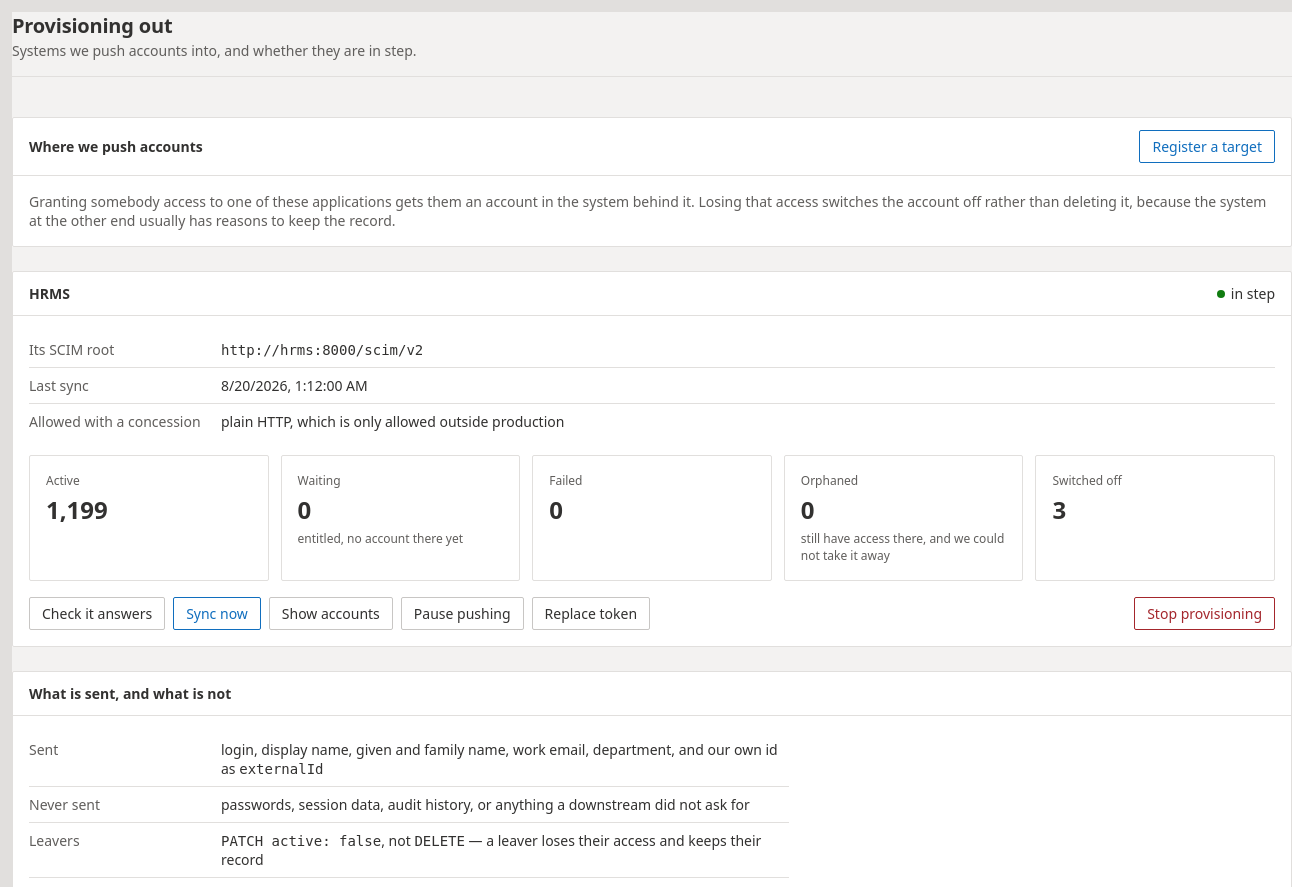
a sync says what it did, in words
Click the button "Sync now" at (217, 614), box x1=173 y1=597 x2=261 y2=630
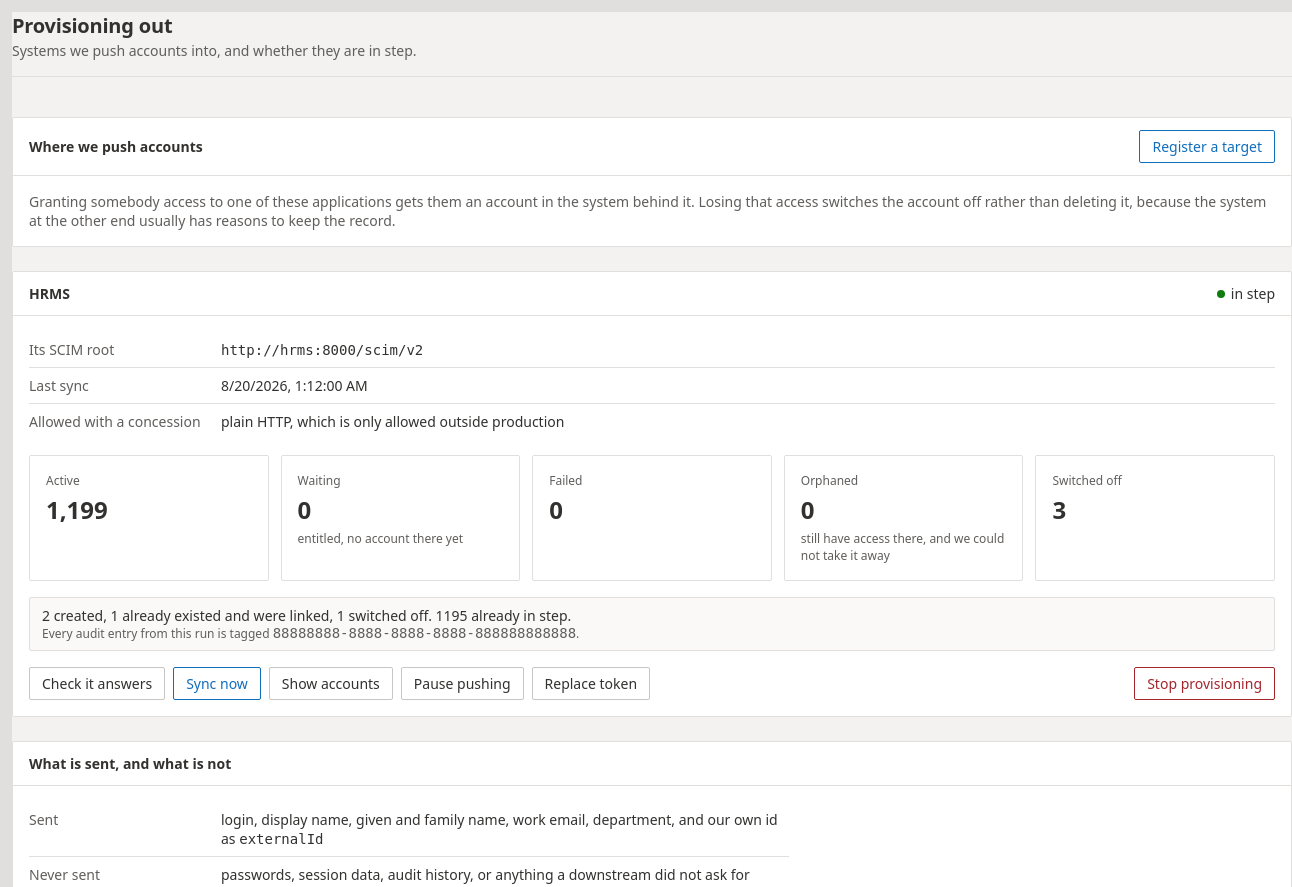
expect the text "1 switched off" is shown: met, box x1=42 y1=606 x2=571 y2=625
